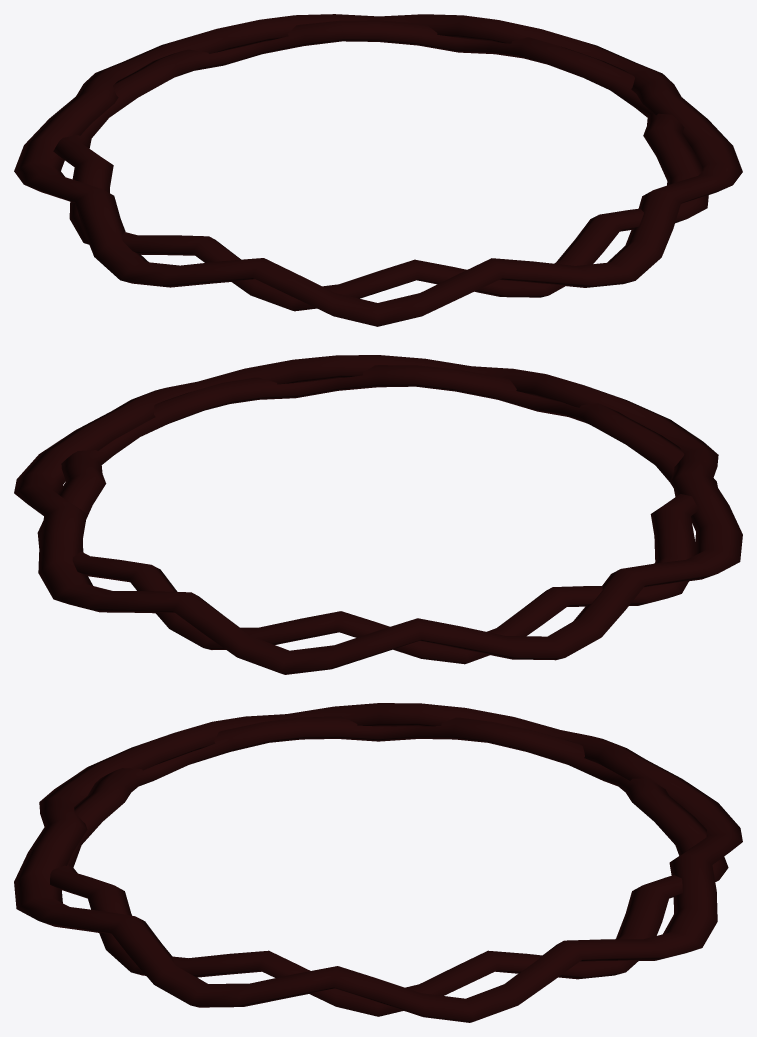
File: ShadowMenus.dae
3 views of the same model, one above another, from view 1: azimuth 30°, elevation 25°; view 2: azimuth 150°, elevation 25°; view 3: azimuth 270°, elevation 25° (orthographic). The views are drawn at different scales.
Visible parts, largest first — view 1: ShadowsForMenu; view 2: ShadowsForMenu; view 3: ShadowsForMenu.
Part boxes in pixels (x1=…): ShadowsForMenu: x1=14, y1=14, x2=742, y2=326; ShadowsForMenu: x1=14, y1=355, x2=742, y2=674; ShadowsForMenu: x1=14, y1=703, x2=742, y2=1022.
Size of the model in its own units: 30.51 by 30.51 by 1.82.
